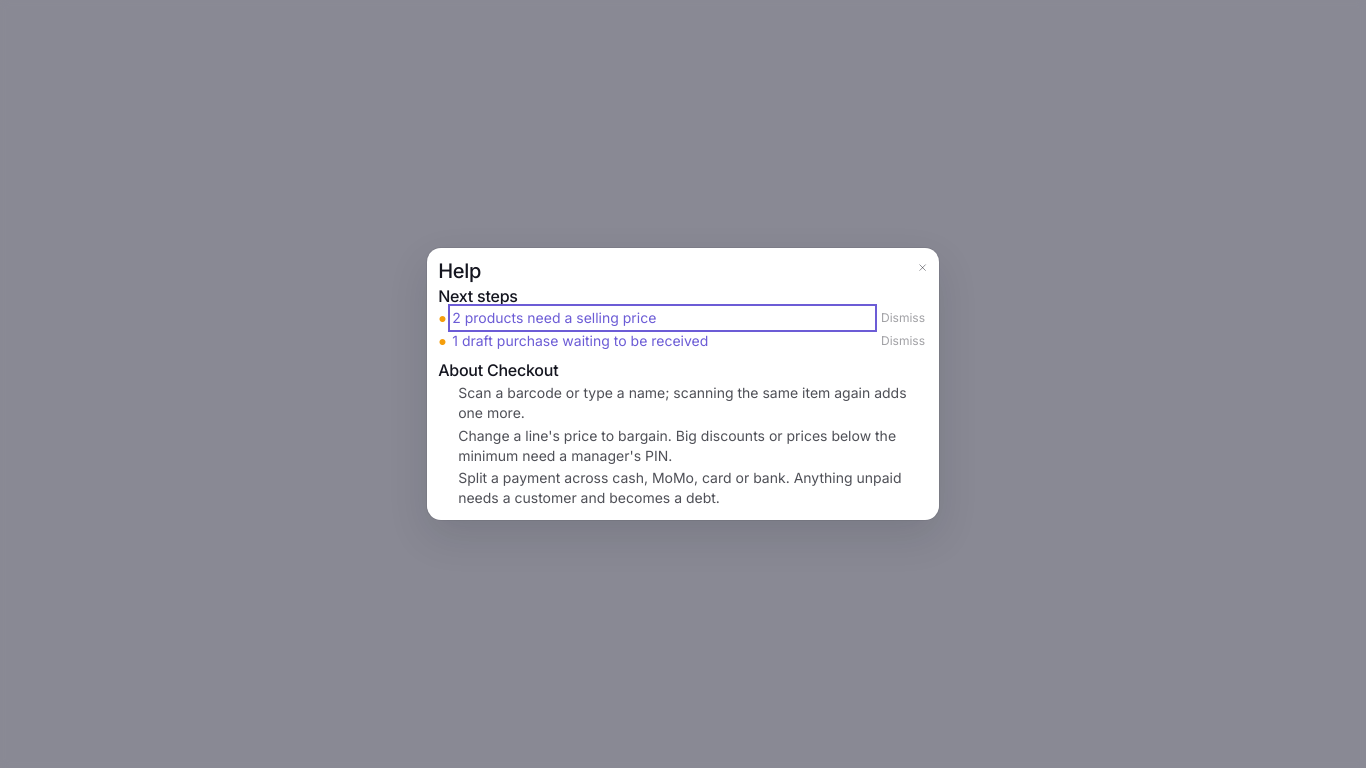
HelpPanel › dismisses a to-do, remembers it, and brings it back when its count changes
Click the button with aria-label "Dismiss: 2 products need a selling price" at (903, 318), box [878,310,928,326]
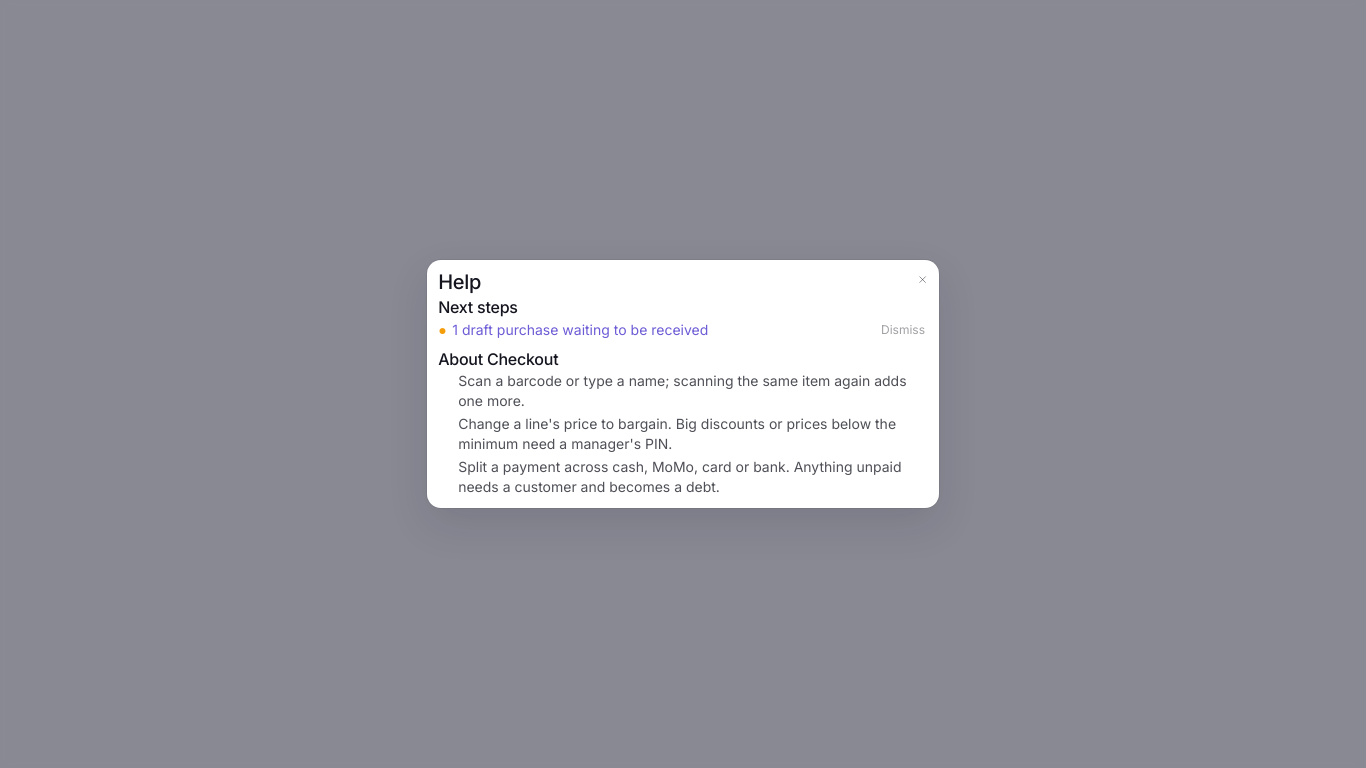
Check: the link "1 draft purchase waiting to be received" is shown, box [452,321,708,338]
Check: the link "2 products need a selling price" is gone
